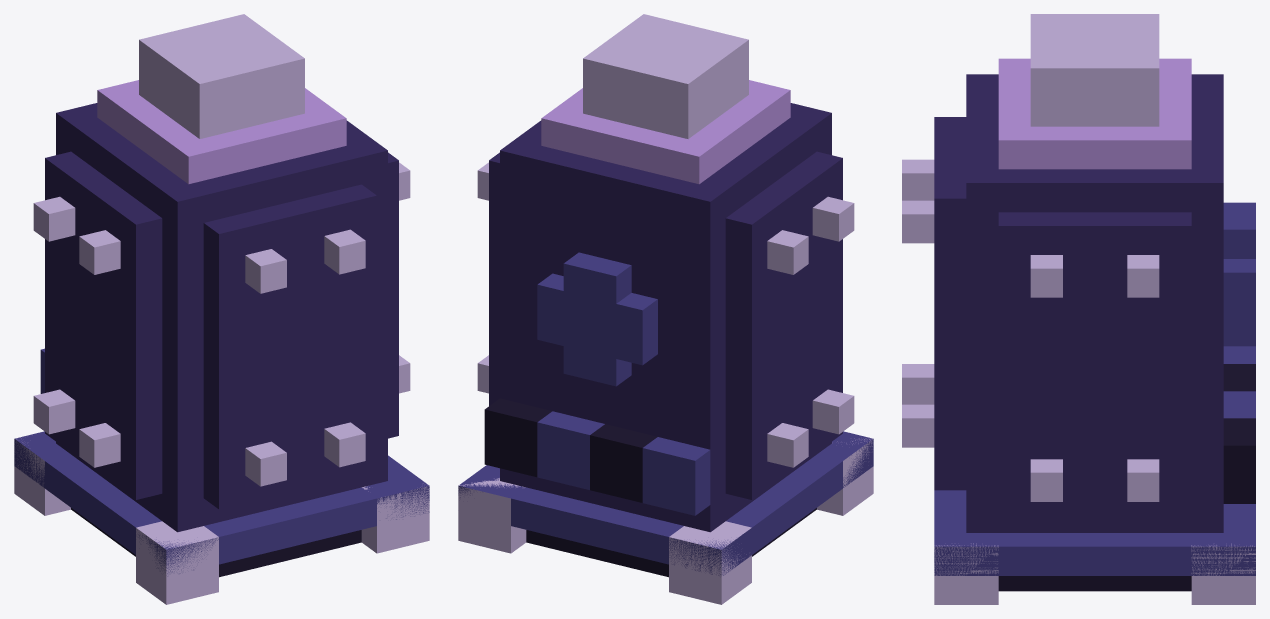
Rendered from magazine.ballistic.sm.glb.
3 renders of one model, left to right at view 1: azimuth 30°, elevation 25°; view 2: azimuth 150°, elevation 25°; view 3: azimuth 270°, elevation 25°, orthographic. The views are drawn at different scales.
Visible parts, largest first — view 1: magazine.ballistic.sm; view 2: magazine.ballistic.sm; view 3: magazine.ballistic.sm.
Boxes of the visible parts, box(x1,y1,x2,y2) form: magazine.ballistic.sm: box(14, 14, 429, 604); magazine.ballistic.sm: box(458, 14, 873, 604); magazine.ballistic.sm: box(902, 14, 1255, 604).
Bounding box in the file's own units: 0.75 × 1.06 × 0.6875.
